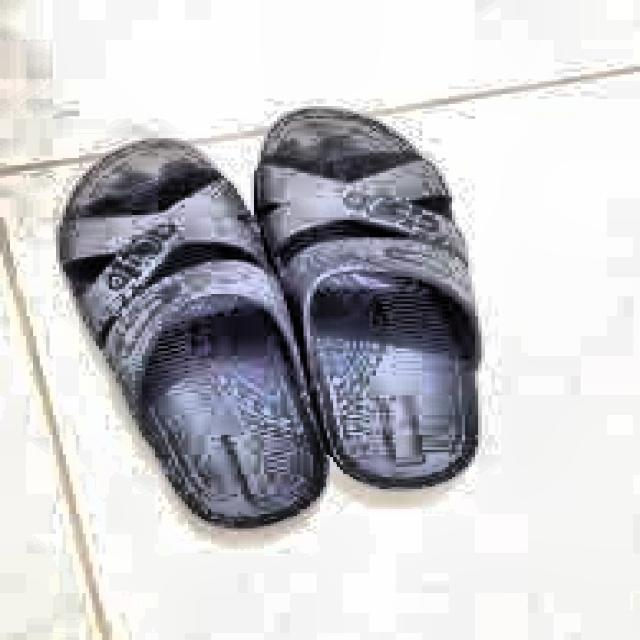shoes: (55, 104, 479, 532)
